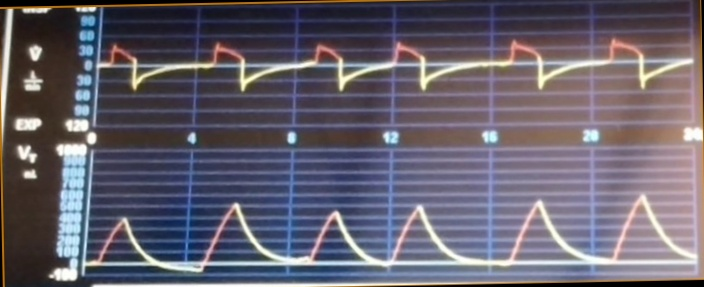Normal Flow: (102, 27, 691, 110)
Normal Volume: (90, 189, 693, 276)
